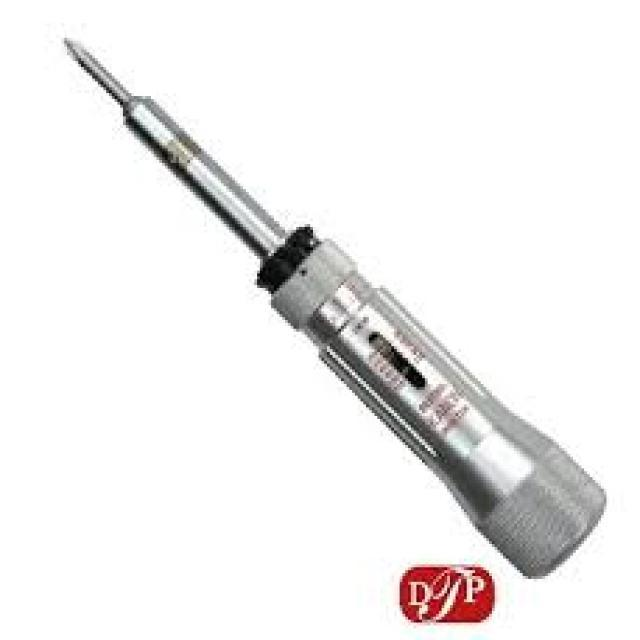screwdriver: (52, 23, 608, 582)
